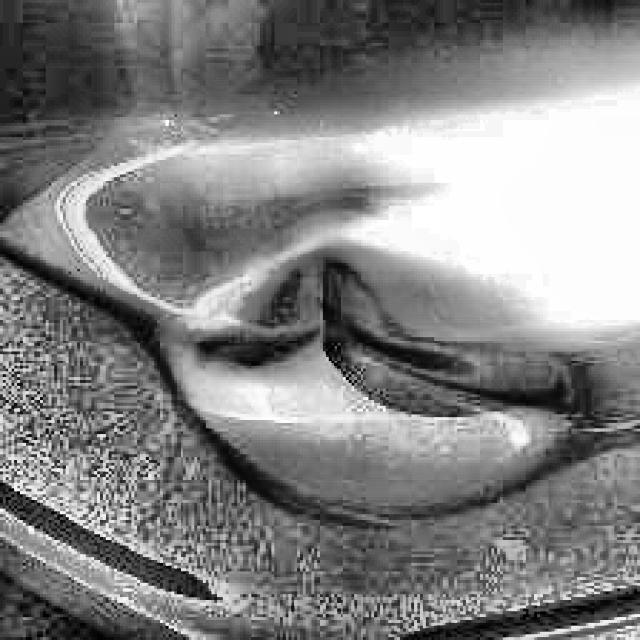bumper_dent: (206, 251, 540, 503)
